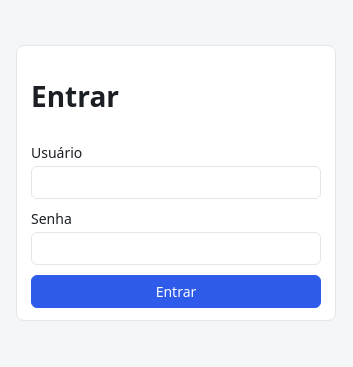
Test: login mostra mensagem do servidor quando nao configurado
Type "a" into the field labelled "Usuário" at coordinates (176, 183), box top-left (31, 166), bottom-right (321, 199)
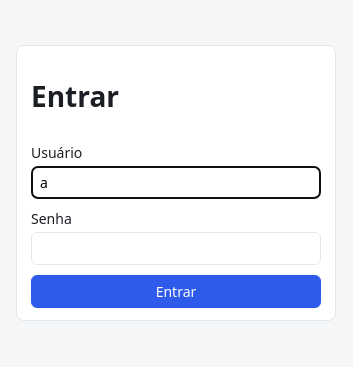
Type "b" into the password field labelled "Senha" at coordinates (176, 249), box top-left (31, 232), bottom-right (321, 265)
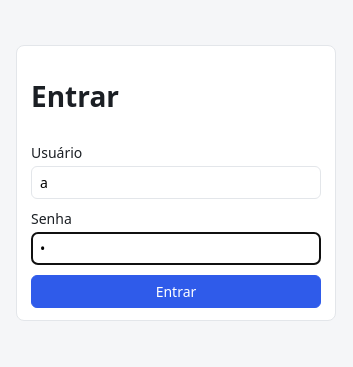
Click the button "Entrar" at coordinates (176, 292), box top-left (31, 275), bottom-right (321, 308)
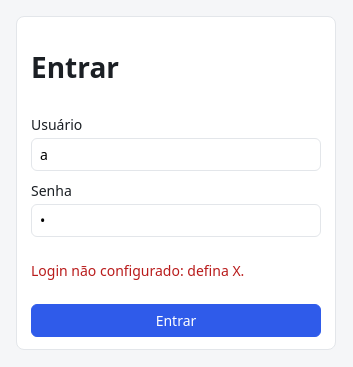
Expected: the message shows "Login não configurado", top-left (31, 261), bottom-right (244, 280)
